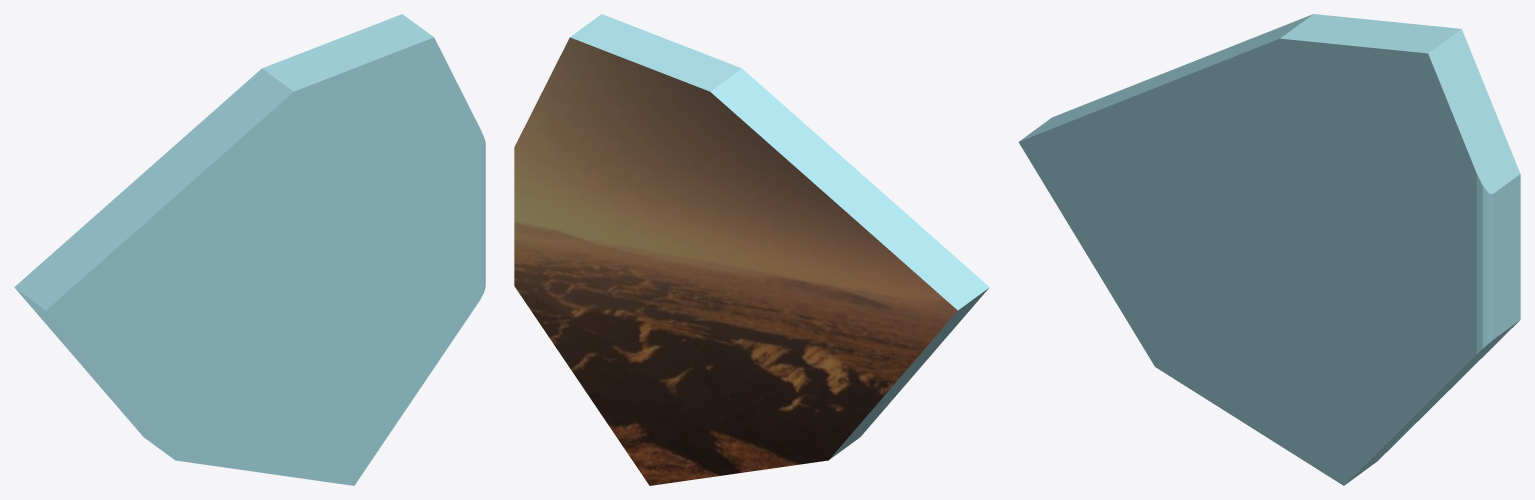
File: monde4.glb
3 renders of one model, left to right at view 1: azimuth 30°, elevation 25°; view 2: azimuth 150°, elevation 25°; view 3: azimuth 330°, elevation 25°, orthographic. The views are drawn at different scales.
Parts seen in each view (by area): view 1: Plane.005; view 2: Plane.005; view 3: Plane.005.
Boxes of the visible parts, x1,y1,x2,y2 form: Plane.005: [14, 14, 485, 485]; Plane.005: [514, 14, 989, 485]; Plane.005: [1018, 14, 1520, 485].
Size of the model in its own units: 40.18 by 37.13 by 5.
Materials: 2 (1 with a texture image).
